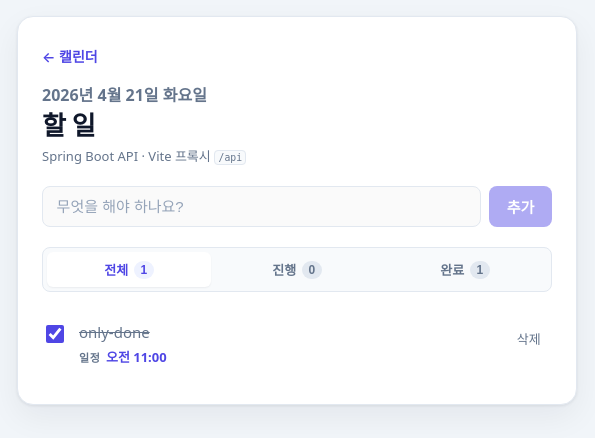
it: TodoDayPage › shows message when no active todos in 진행 tab
Expected: the text "only-done" is shown, [79,322,150,342]
Click the tab "진행 0". click: (297, 270)
box: [215,252,379,287]
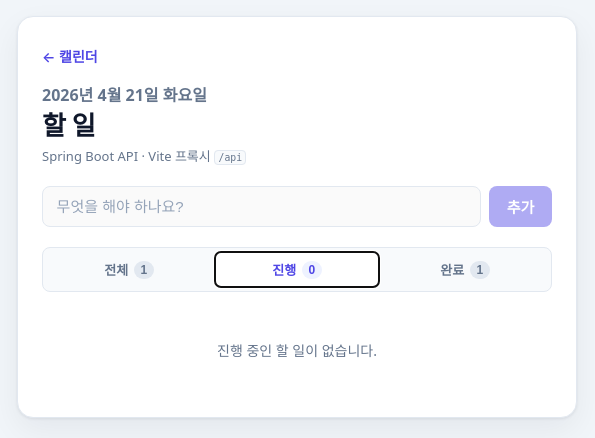
Expected: the text "진행 중인 할 일이 없습니다." is shown, [217,341,377,360]
